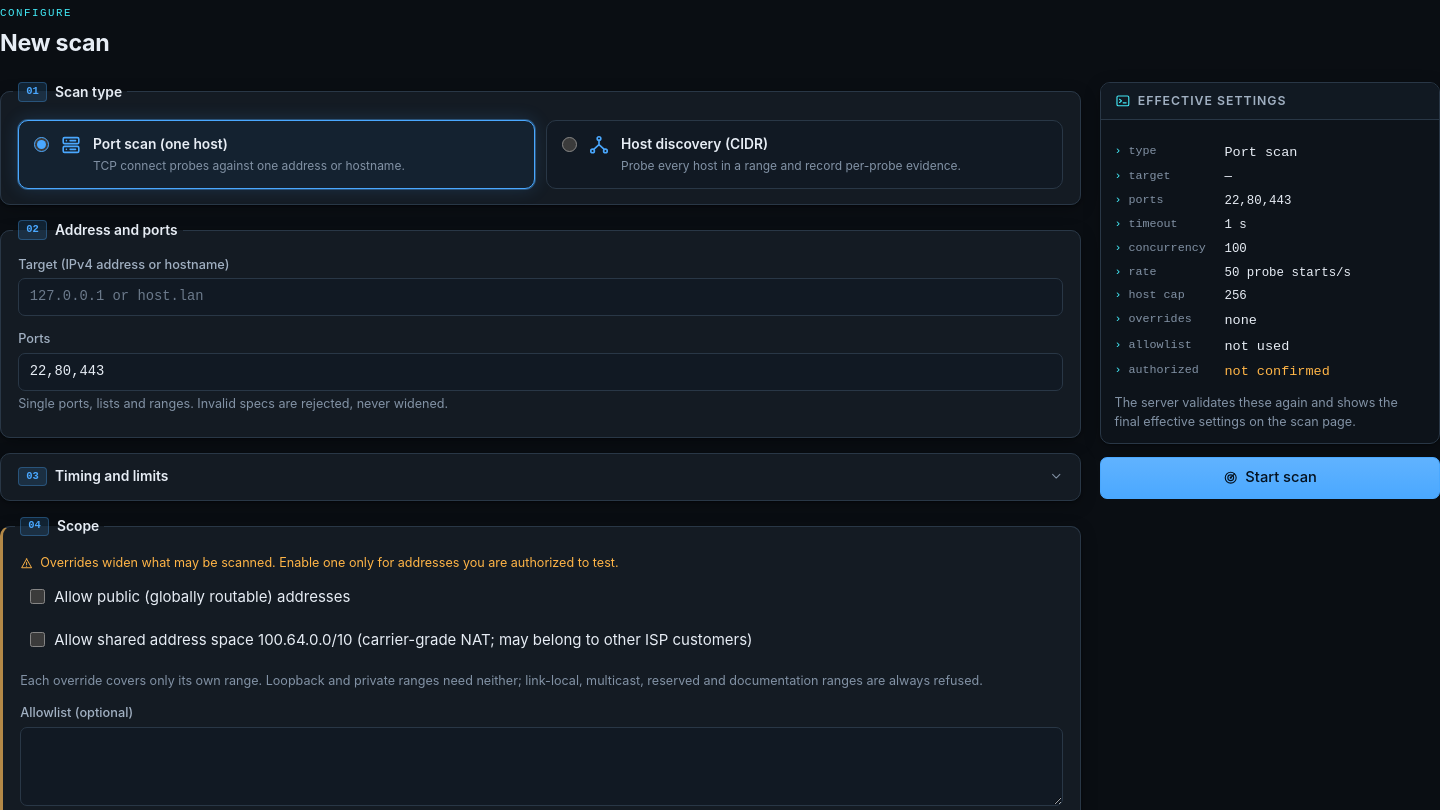
Test: New scan form › maps server field errors onto the form
Type "127.0.0.1" into the field labelled "Target (IPv4 address or hostname)" at (541, 297), box left=18, top=278, right=1063, bottom=316
(page scrolled)
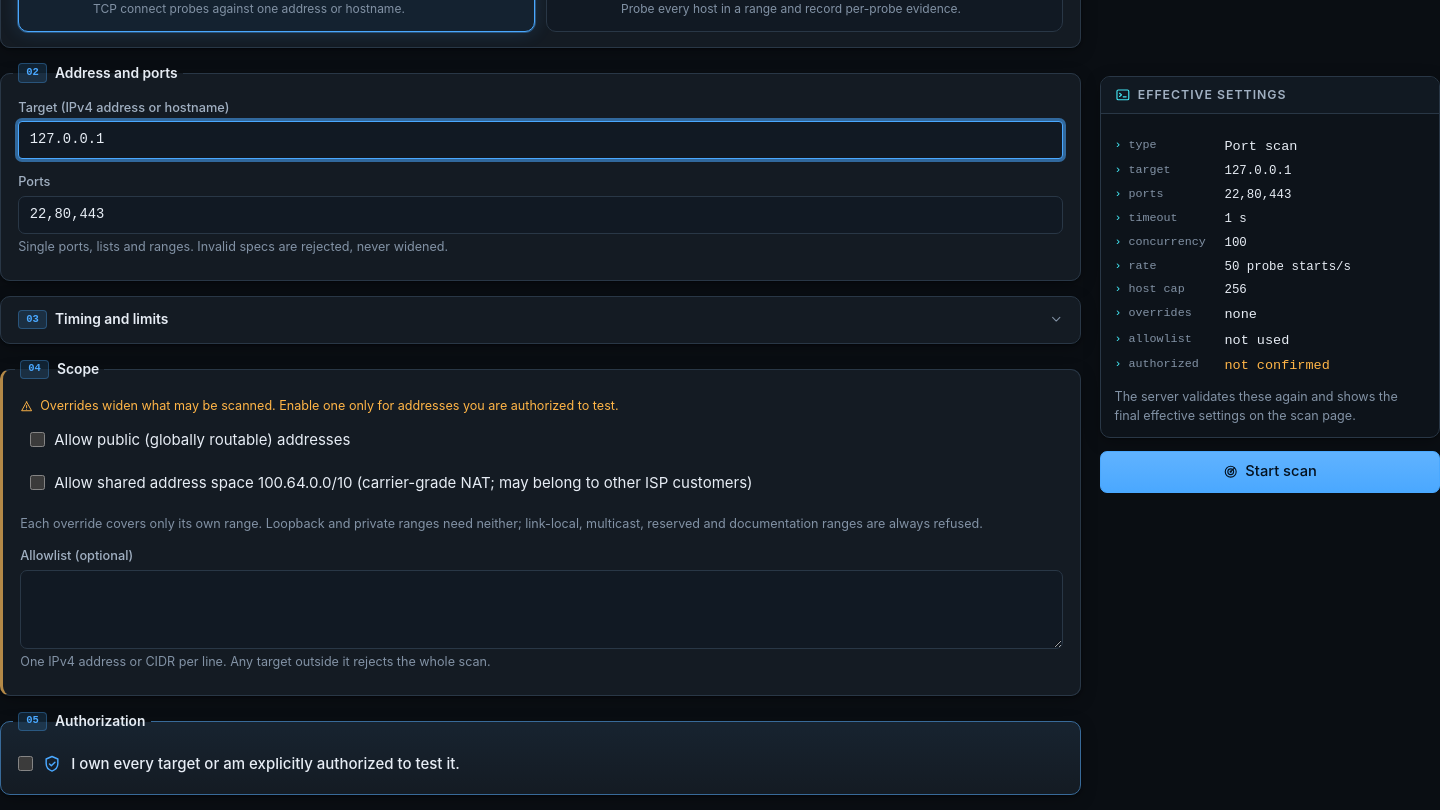
Click the checkbox labelled "I own every target or am explicitly authorized to test it." at (26, 764), box left=18, top=756, right=33, bottom=771
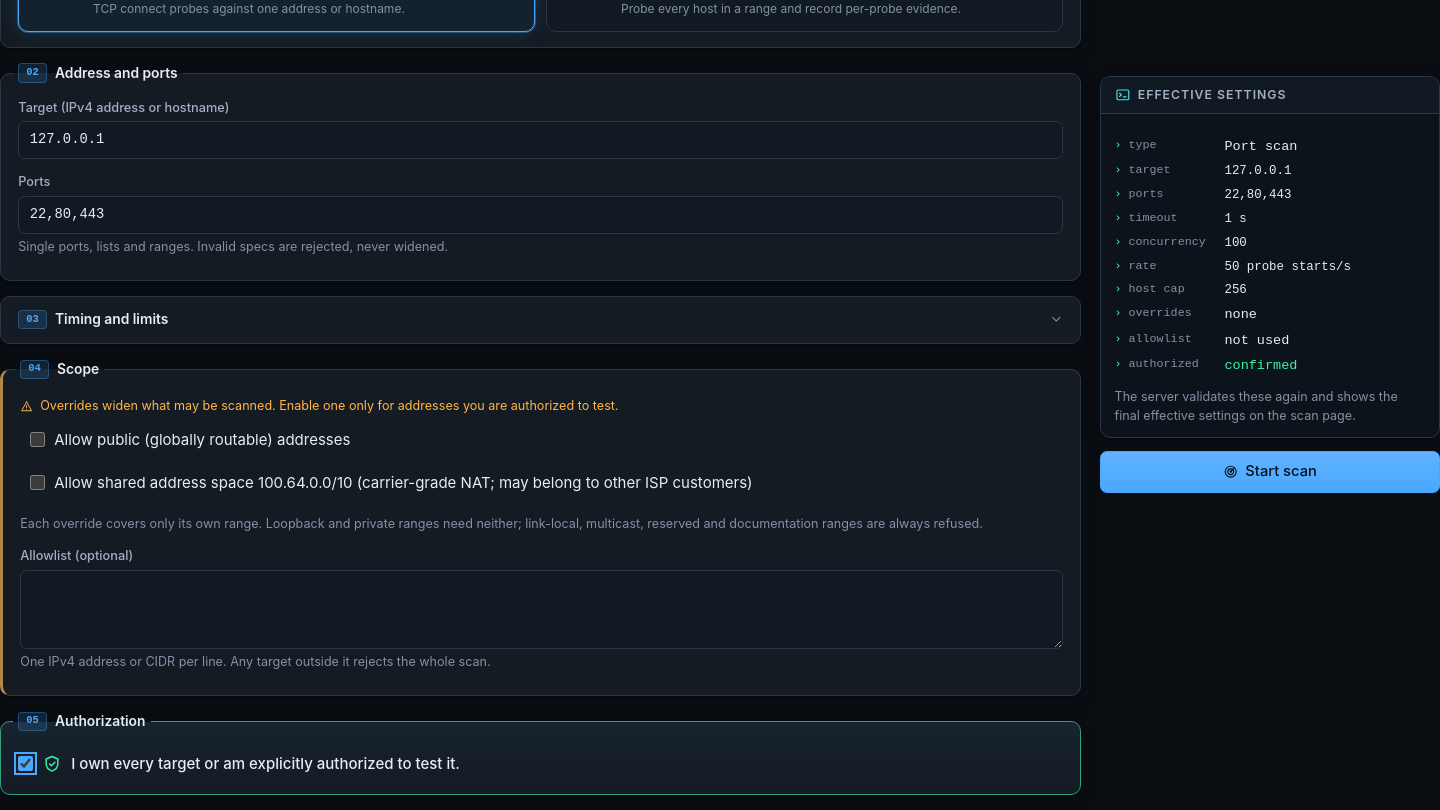
Click the button "Start scan" at (1270, 472), box left=1100, top=451, right=1439, bottom=493
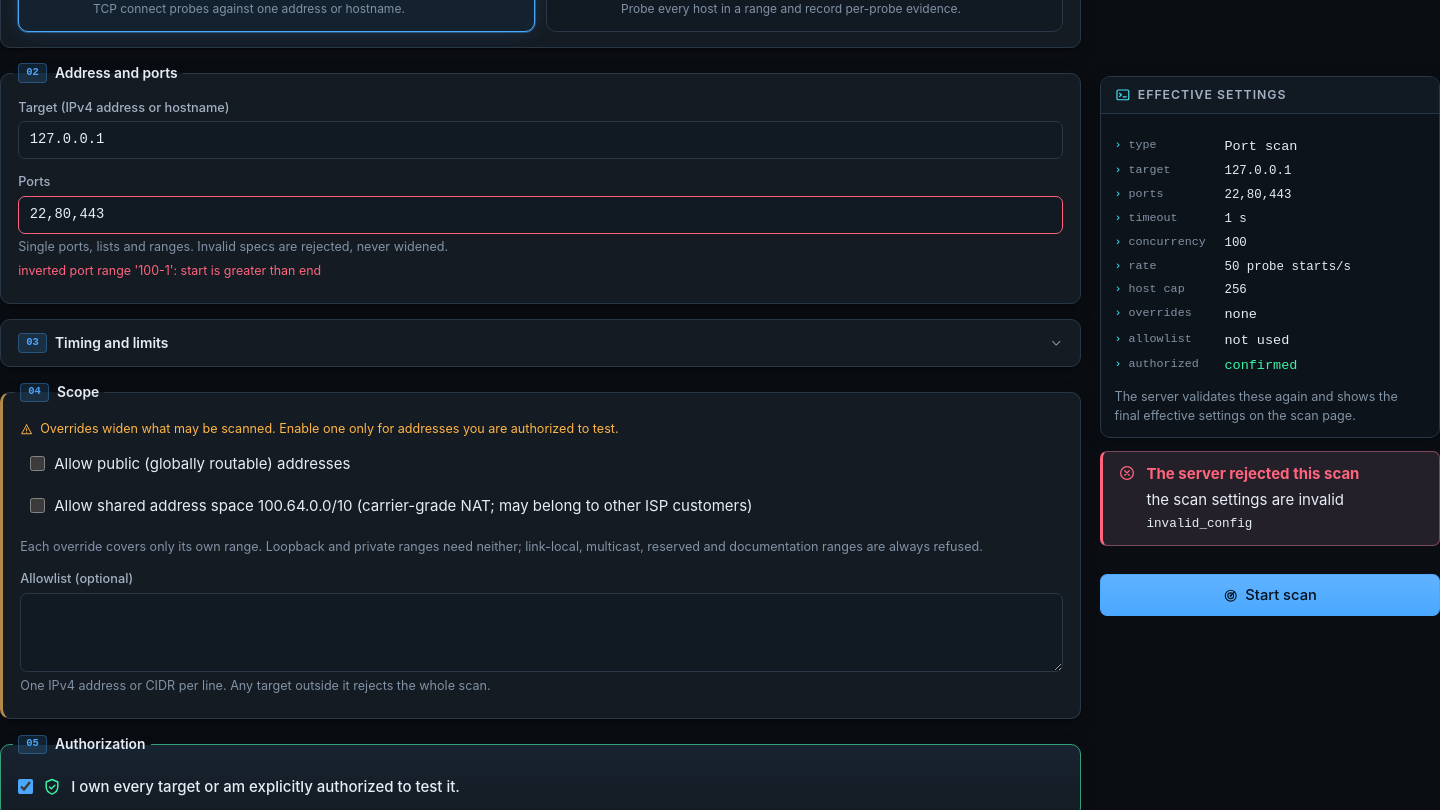
Expected: the text "inverted port range '100-1': start is greater than end" is shown, left=18, top=263, right=321, bottom=278
